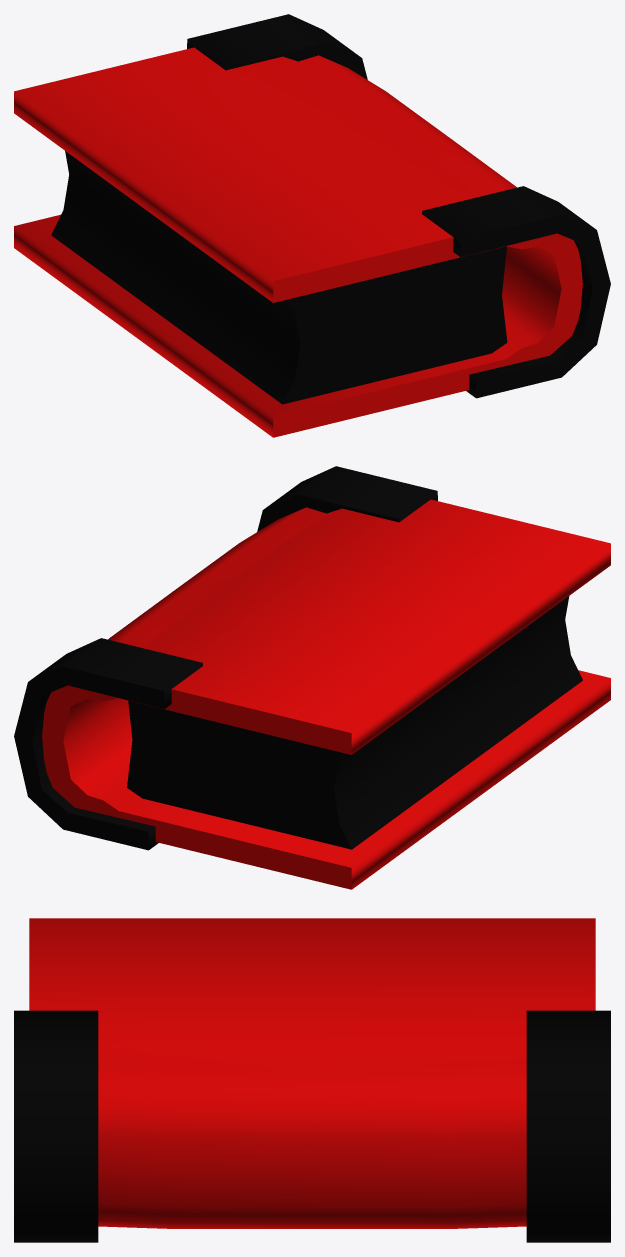
File: Book_C.fbx
3 renders of one model, top to bottom at view 1: azimuth 30°, elevation 25°; view 2: azimuth 150°, elevation 25°; view 3: azimuth 270°, elevation 25°, orthographic. The views are drawn at different scales.
Visible parts, largest first — view 1: U_Book_C; view 2: U_Book_C; view 3: U_Book_C.
Part boxes in pixels (x1,y1,x2,y2): U_Book_C: [14, 14, 610, 437]; U_Book_C: [14, 466, 610, 889]; U_Book_C: [14, 918, 610, 1242].
Size of the model in its own units: 43.04 by 20.3 by 61.64.
